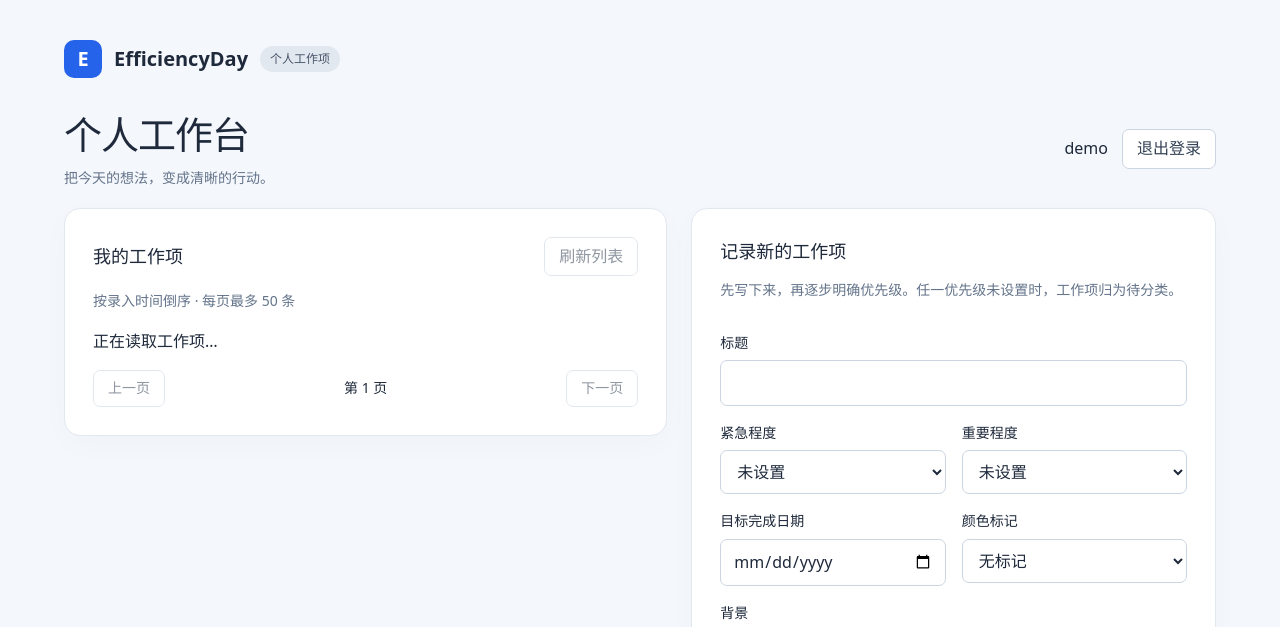
Scenario: keeps the workspace visible and reports a failed logout
Click the button "退出登录". click: point(1169, 149)
box: [1122,129,1216,169]
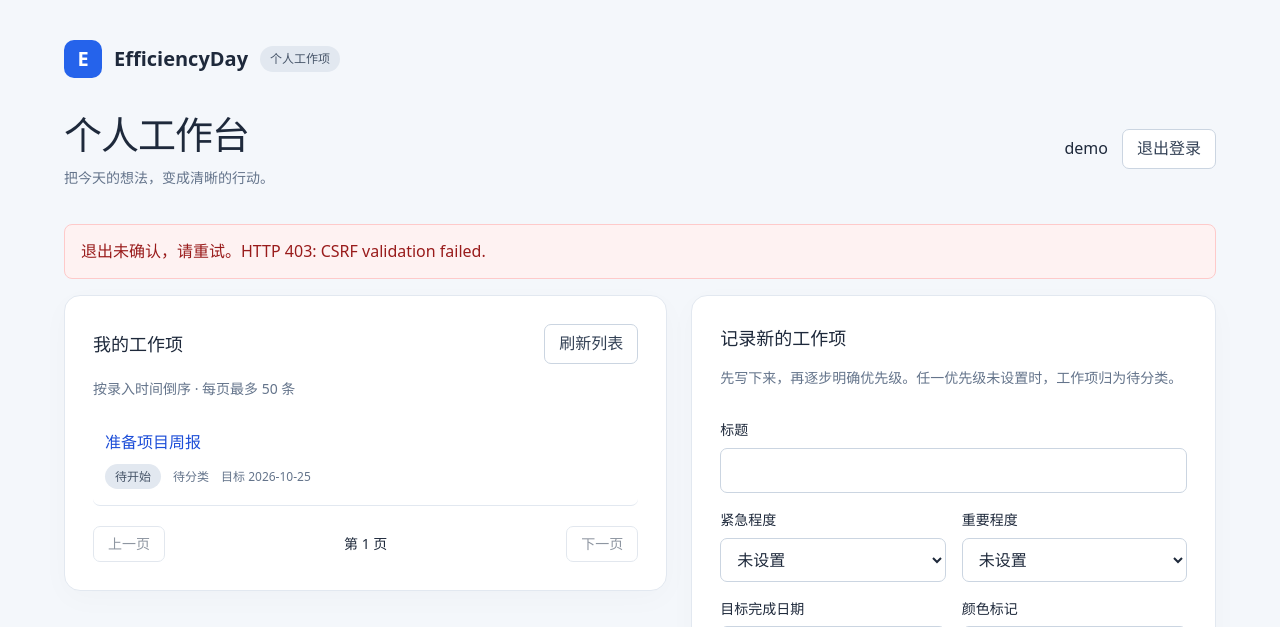
Now the message shows "HTTP 403", box [241,240,486,262]
